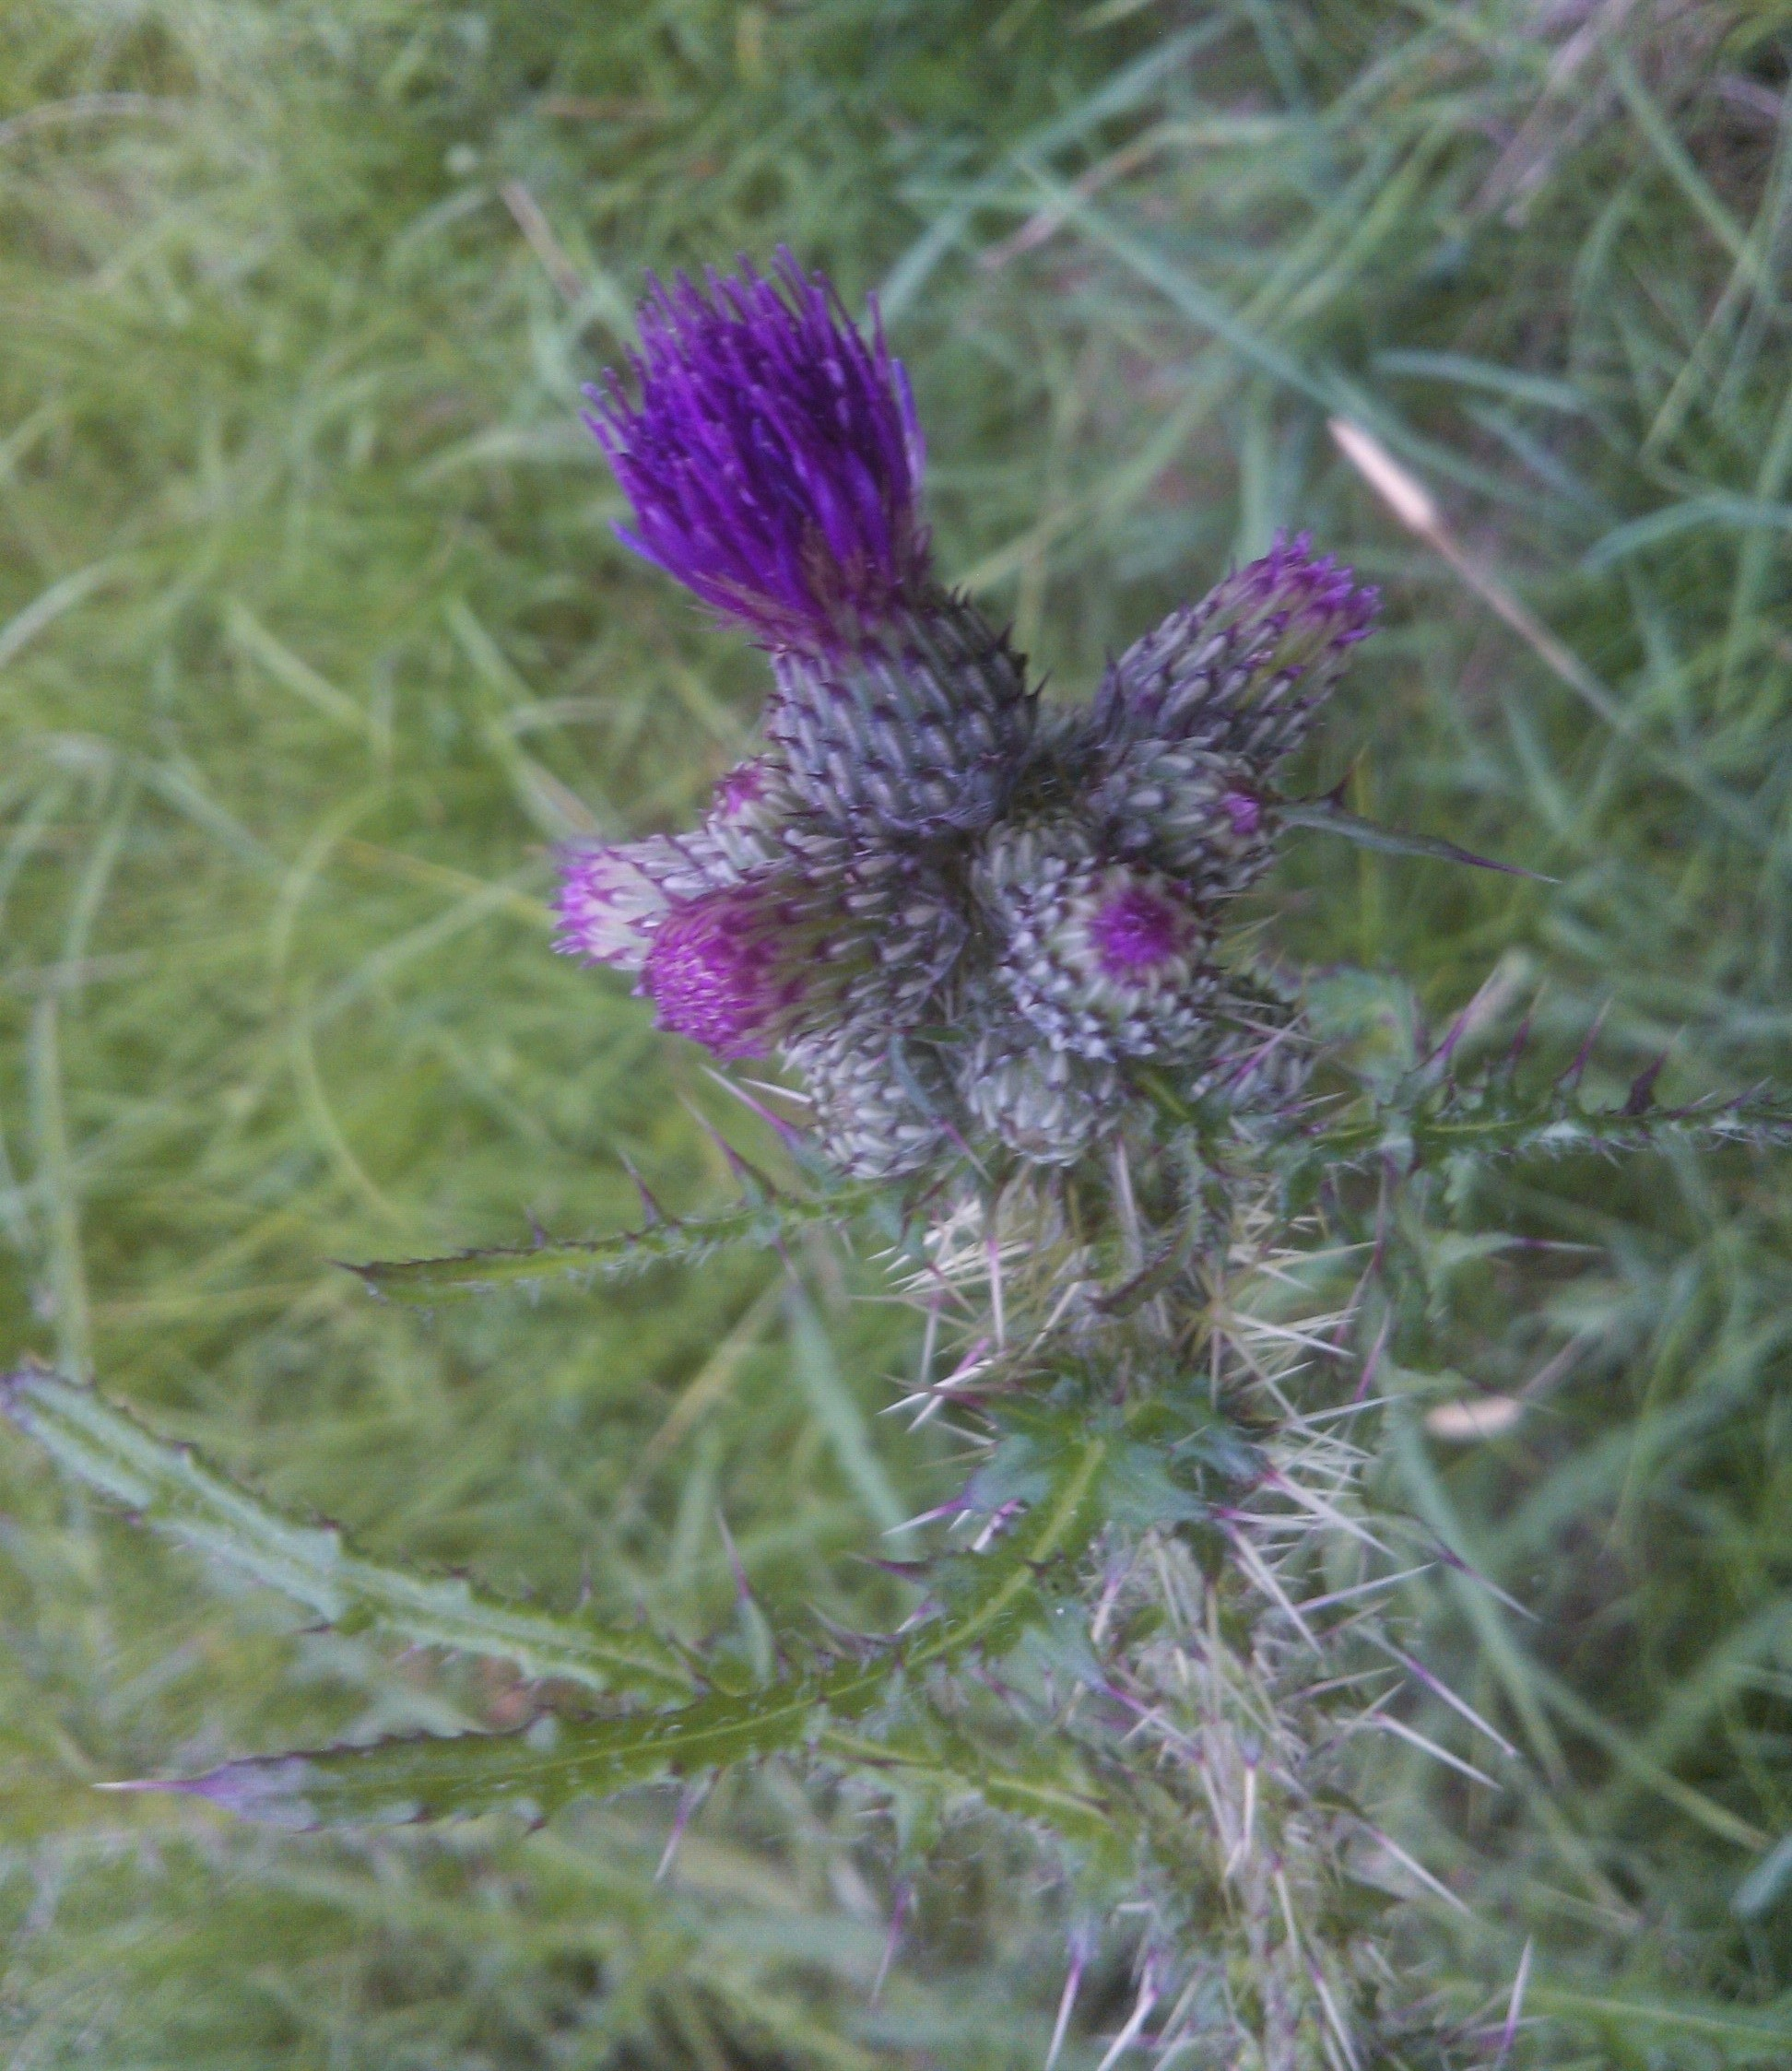thistle: (520, 262, 1064, 837), (636, 837, 974, 1027)
